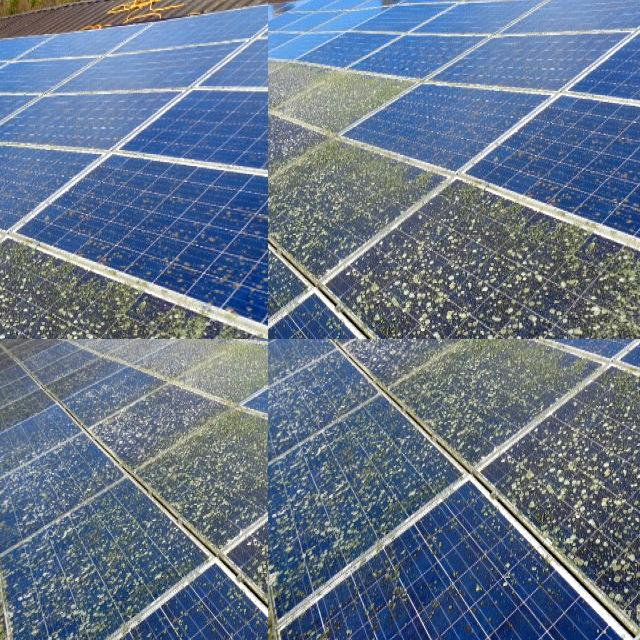bird: (0, 96, 25, 123), (0, 196, 12, 221), (0, 101, 11, 127), (0, 196, 11, 221), (0, 196, 13, 215), (0, 121, 16, 136), (0, 248, 8, 267), (0, 156, 12, 166)
dust: (343, 499, 522, 626), (268, 359, 358, 531), (408, 339, 491, 465), (562, 471, 640, 562), (268, 339, 445, 379), (561, 401, 640, 473)
hotspot: (480, 215, 640, 339), (242, 362, 268, 418)
